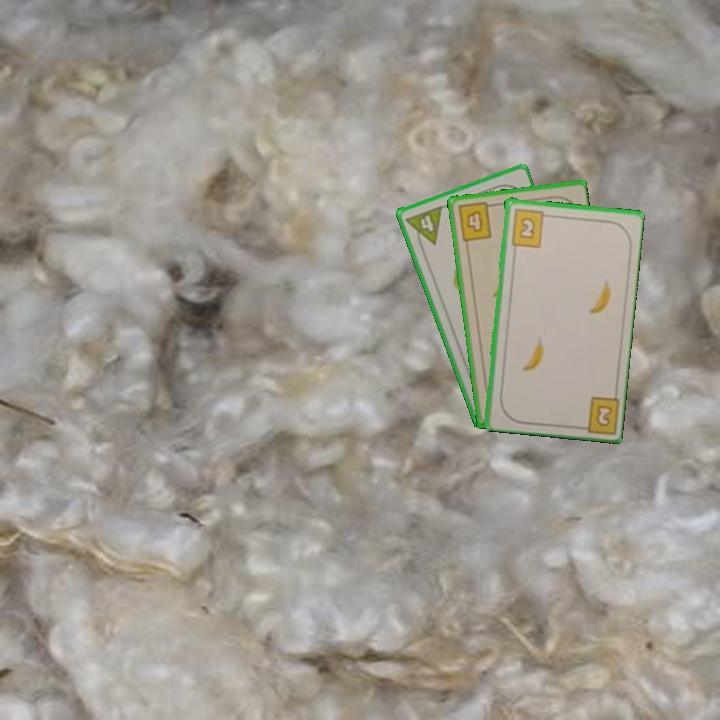2b: (507, 205, 552, 250), (573, 392, 620, 435)
4b: (454, 199, 497, 244)
4p: (402, 202, 445, 252)
